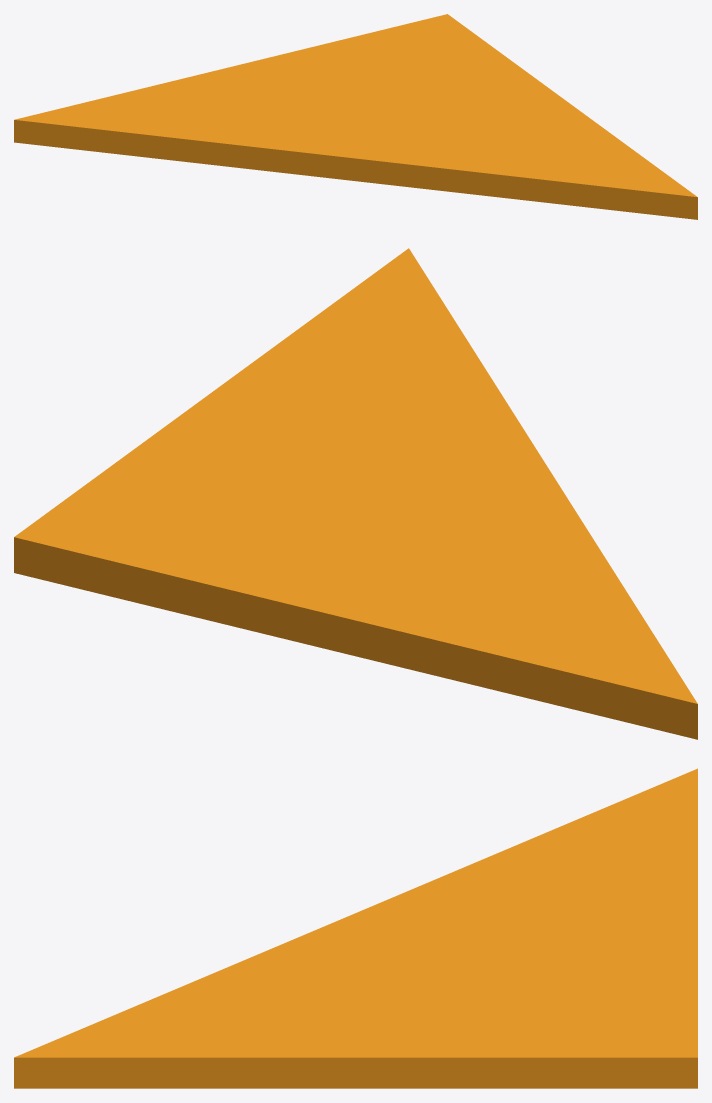
File: SM_Buildings_FloorAngle_2x2_01.fbx
3 views of the same model, one above another, from view 1: azimuth 30°, elevation 25°; view 2: azimuth 150°, elevation 25°; view 3: azimuth 270°, elevation 25° (orthographic). The views are drawn at different scales.
Visible parts, largest first — view 1: SM_Buildings_FloorAngle_2x2_01; view 2: SM_Buildings_FloorAngle_2x2_01; view 3: SM_Buildings_FloorAngle_2x2_01.
Part boxes in pixels (bbox=[...]): SM_Buildings_FloorAngle_2x2_01: bbox=[14, 14, 697, 219]; SM_Buildings_FloorAngle_2x2_01: bbox=[14, 248, 697, 739]; SM_Buildings_FloorAngle_2x2_01: bbox=[14, 768, 697, 1088].
Size of the model in its own units: 200 by 10 by 200.
